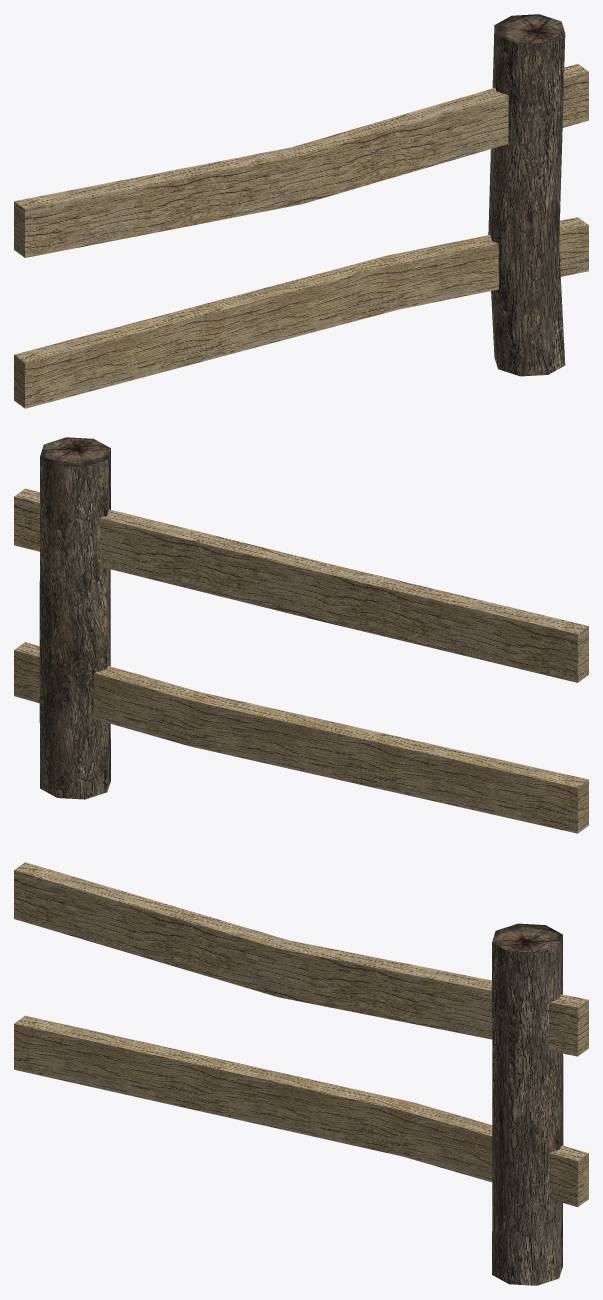
The model's file is woodenFence10.FBX.
3 views of the same model, one above another, from view 1: azimuth 30°, elevation 25°; view 2: azimuth 150°, elevation 25°; view 3: azimuth 330°, elevation 25° (orthographic).
Visible parts, largest first — view 1: wooden_fence_small_1pole_R; view 2: wooden_fence_small_1pole_R; view 3: wooden_fence_small_1pole_R.
Boxes of the visible parts, bbox=[...] form: wooden_fence_small_1pole_R: bbox=[14, 14, 588, 408]; wooden_fence_small_1pole_R: bbox=[14, 437, 588, 833]; wooden_fence_small_1pole_R: bbox=[14, 862, 588, 1285].
Size of the model in its own units: 254 by 143 by 31.18.
